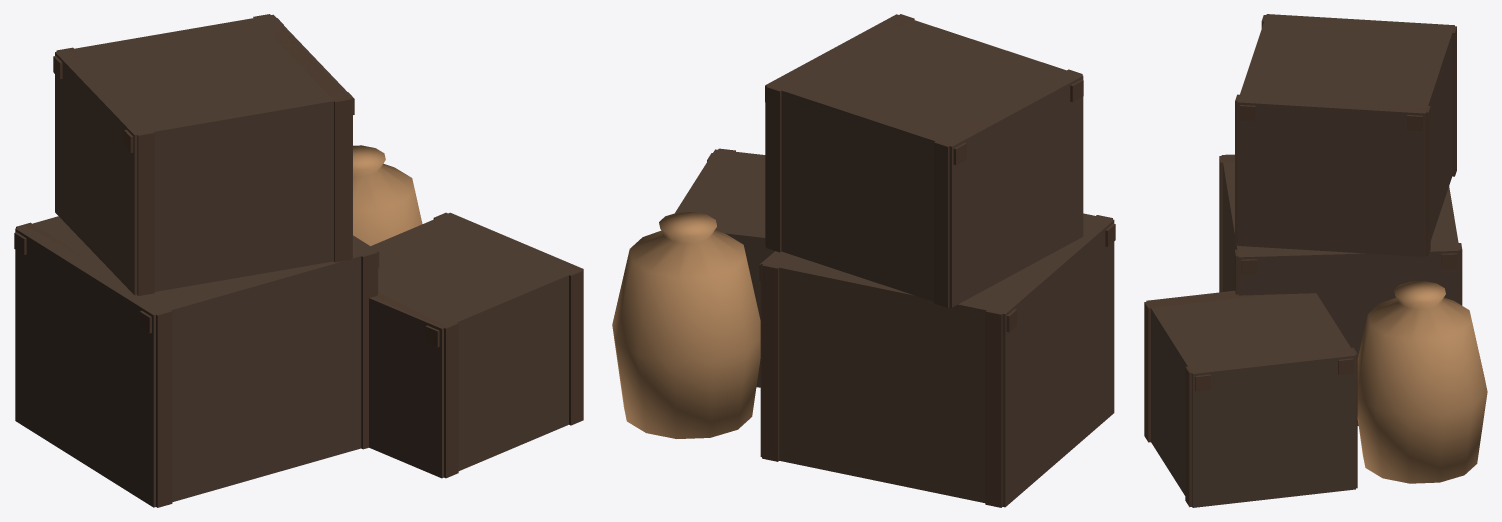
File: crate_stack.glb
3 views of the same model, side by side, from view 1: azimuth 30°, elevation 25°; view 2: azimuth 150°, elevation 25°; view 3: azimuth 270°, elevation 25° (orthographic). The views are drawn at different scales.
Parts seen in each view (by area): view 1: crate_stack; view 2: crate_stack; view 3: crate_stack.
Part boxes in pixels (x1,y1,x2,y2): crate_stack: [14, 14, 583, 507]; crate_stack: [612, 14, 1115, 507]; crate_stack: [1144, 14, 1487, 507].
Size of the model in its own units: 0.8479 by 0.66 by 0.6501.
